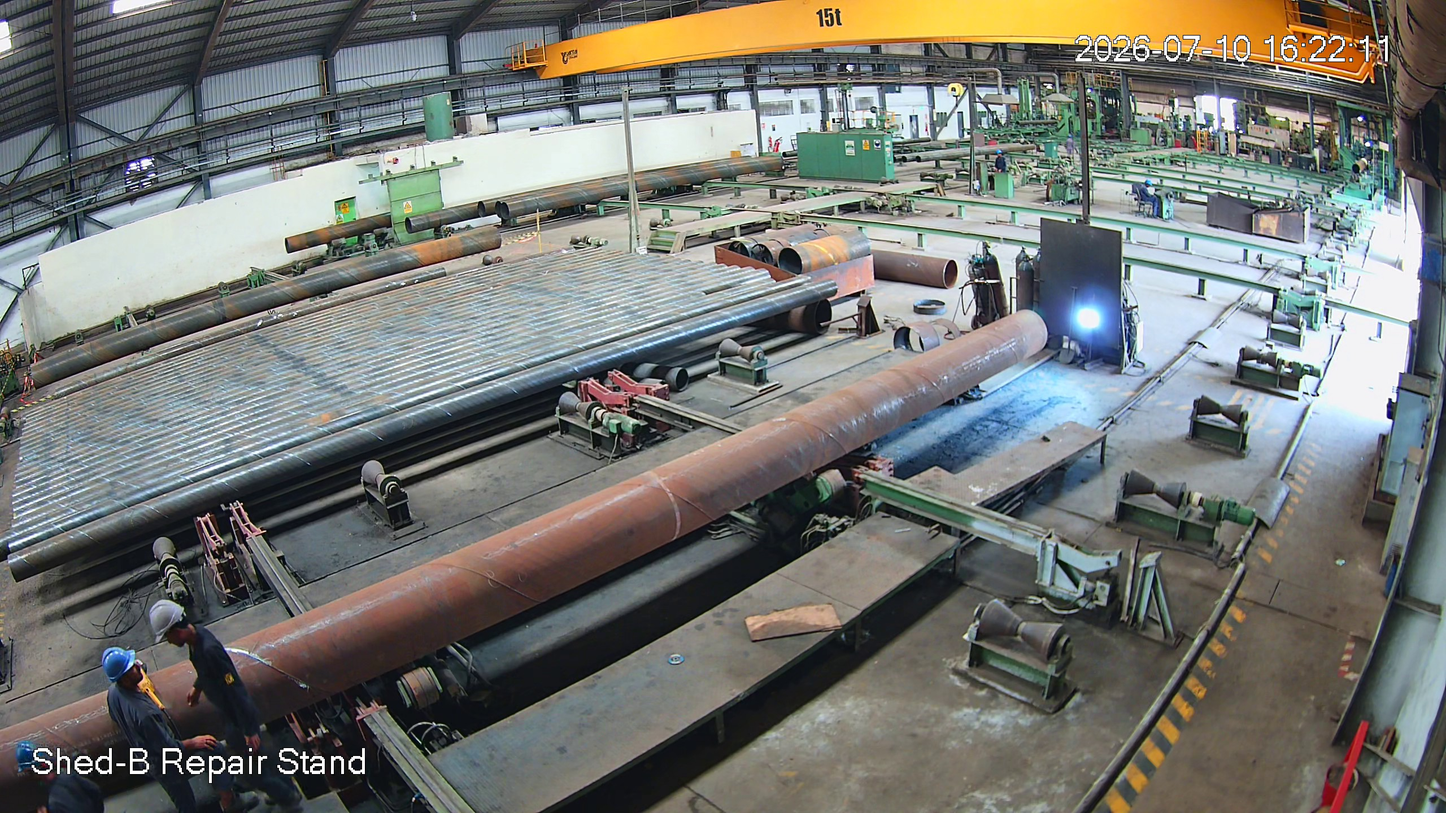Helmet: (146, 596, 205, 657), (95, 643, 151, 706)
Person: (100, 645, 204, 813), (127, 624, 208, 813)
